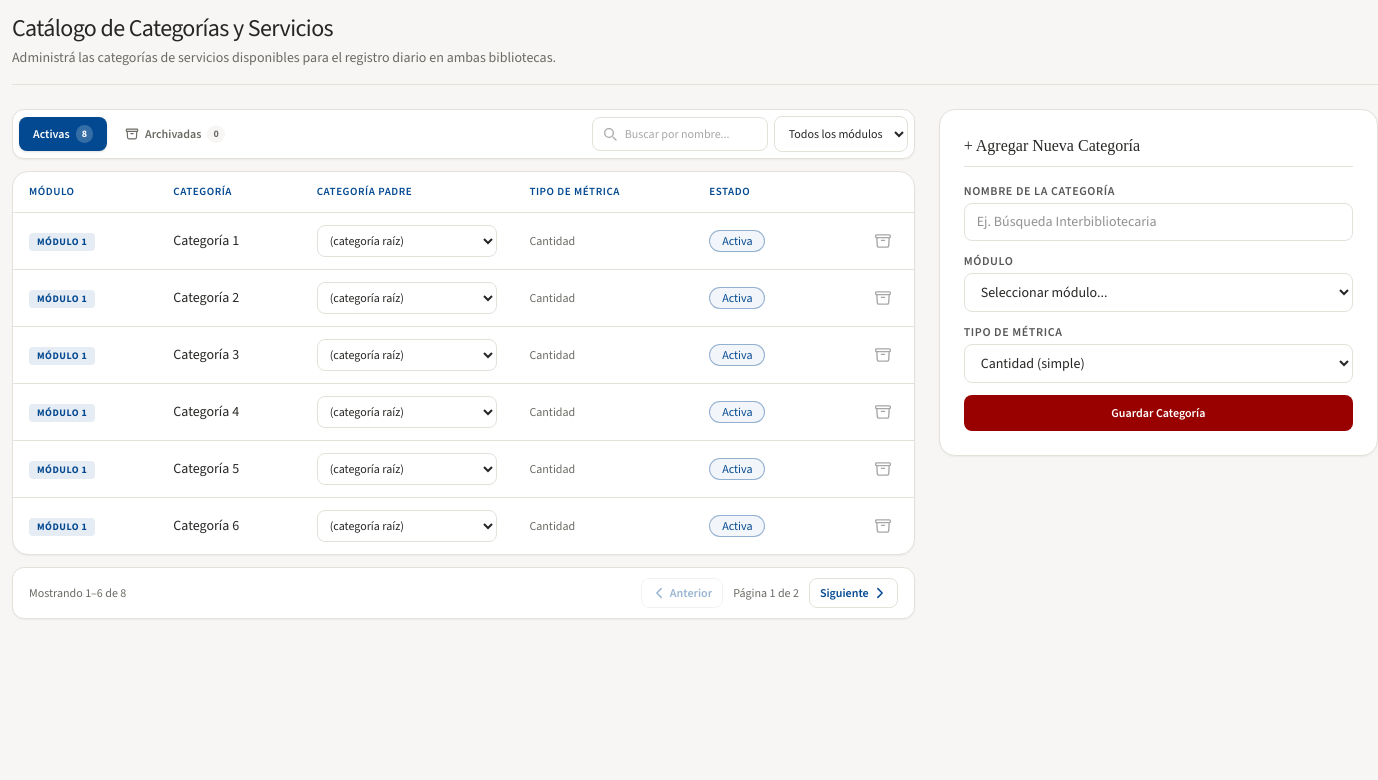
Scenario: CategoriesView › vuelve a la primera página al cambiar de pestaña
Expected: the text "Categoría 1" is shown, [173,231,239,250]
Click the button with aria-label "Página siguiente" at [853, 593], box [809,578,898,608]
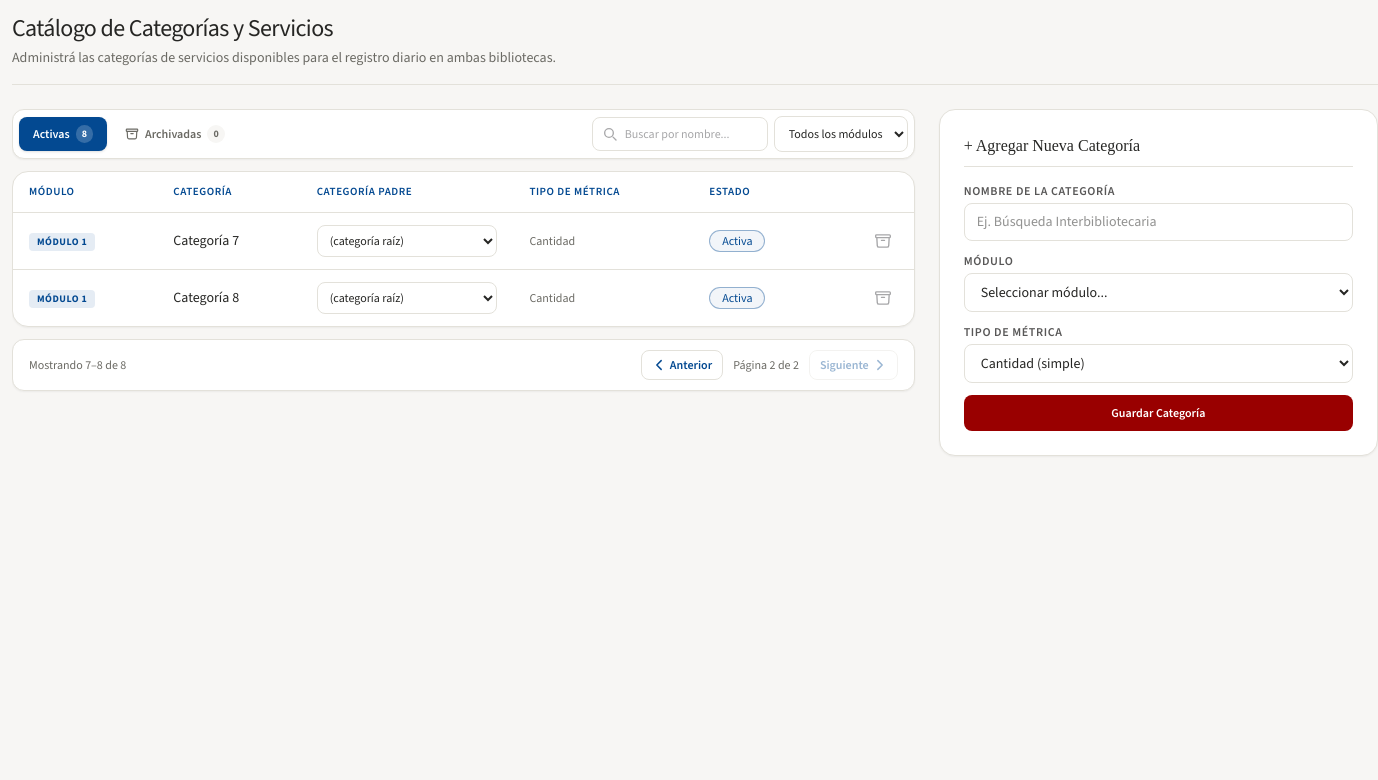
Now the text "Categoría 7" is shown, box [173,231,239,250]
Click the button "Archivadas 0" at [175, 134], box [111,117,239,151]
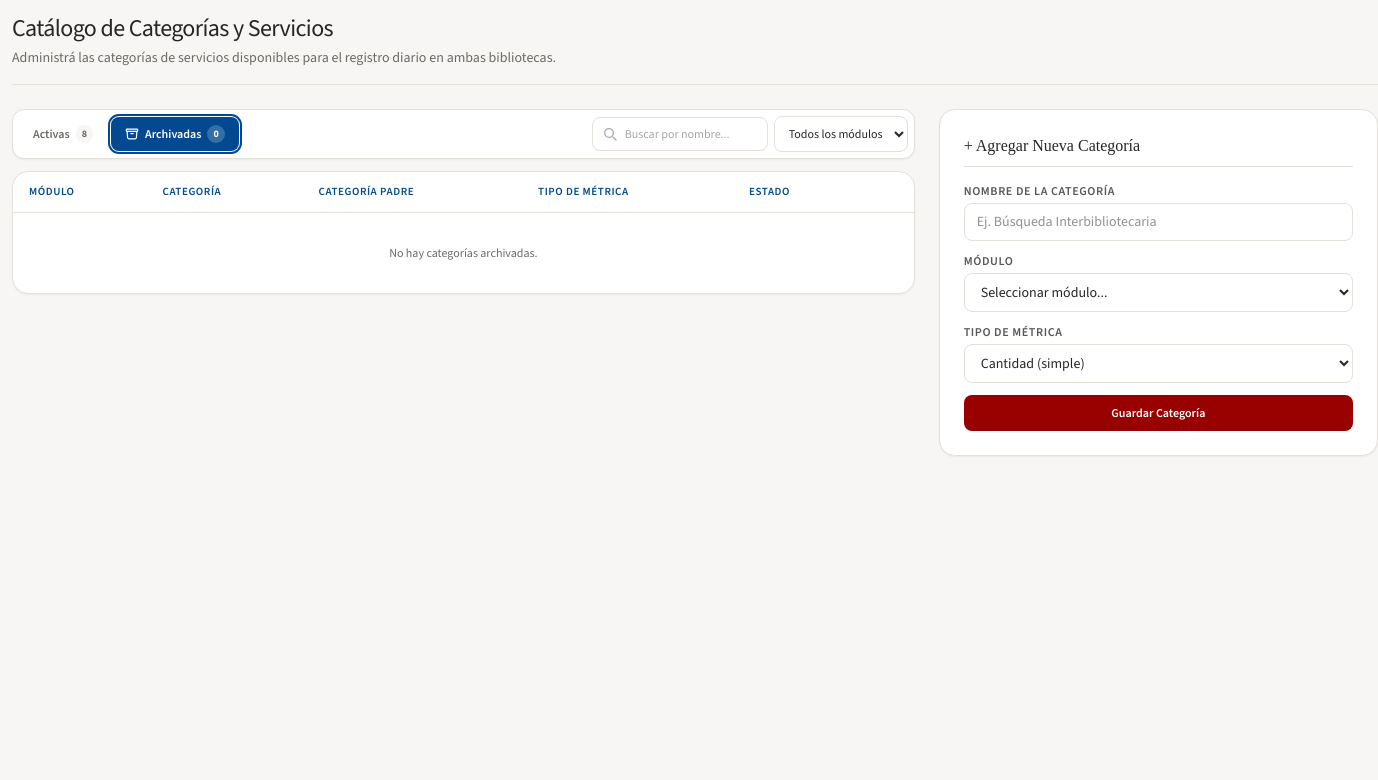
Now the text "No hay categorías archivadas." is shown, box [13,213,914,293]
Click the button "Activas 8" at [63, 134], box [19,117,107,151]
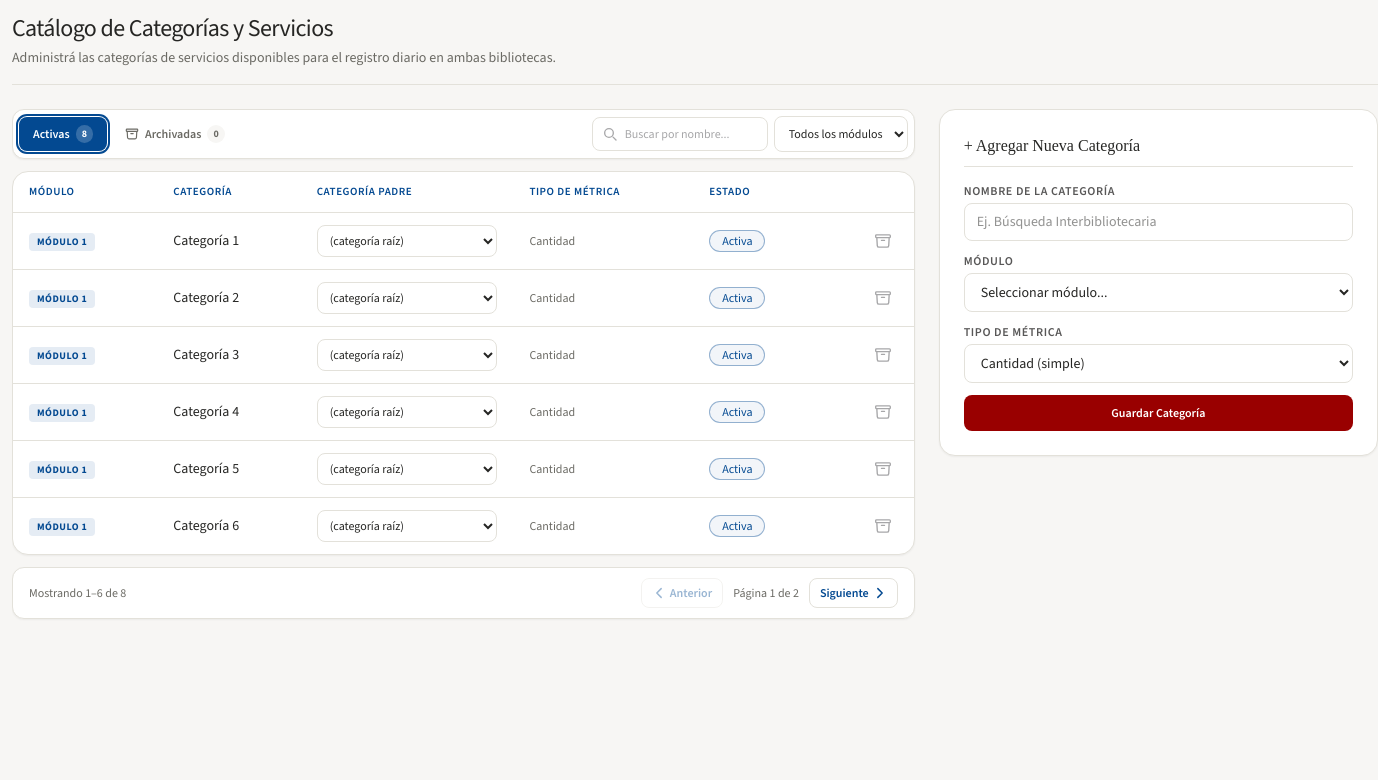
Now the text "Categoría 1" is shown, box [173,231,239,250]
Now the text "Página 1 de 2" is shown, box [729,585,803,601]
